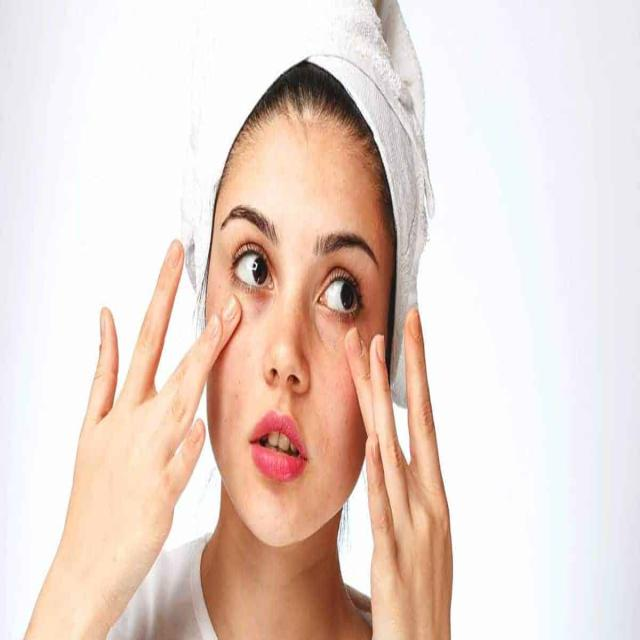Dry-Skin: (211, 335, 297, 541), (305, 329, 370, 537)
